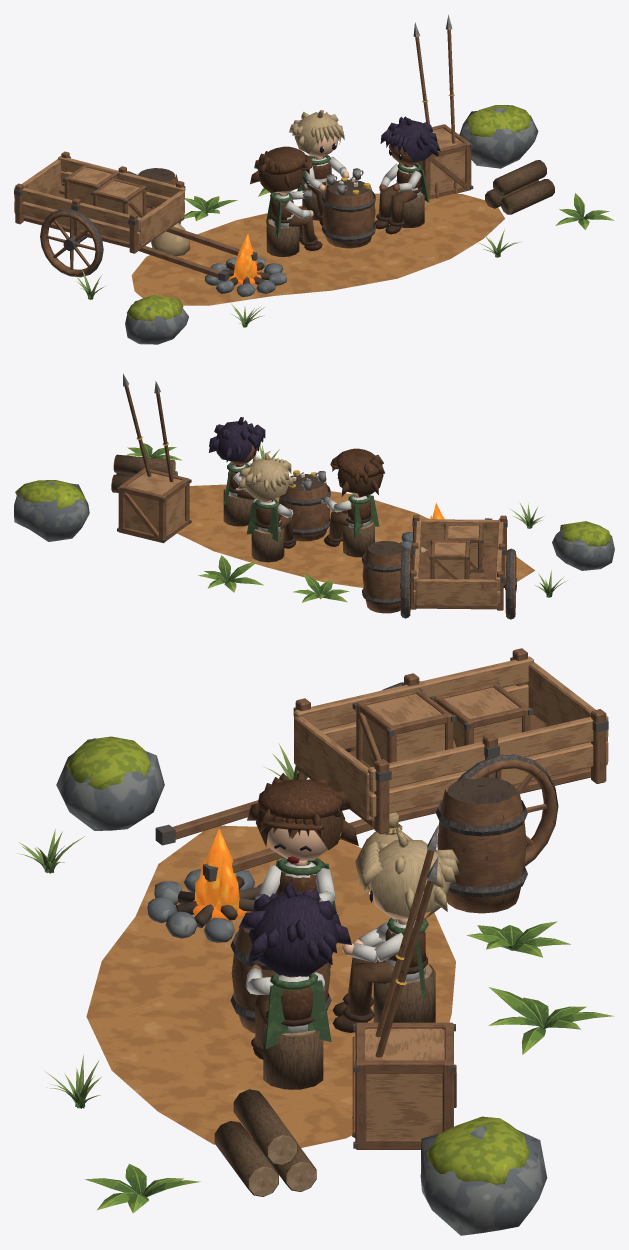
The model's file is ev14_dice.glb.
The picture shows the model from 3 angles, top to bottom: view 1: azimuth 30°, elevation 25°; view 2: azimuth 150°, elevation 25°; view 3: azimuth 270°, elevation 25°; orthographic projection. The views are drawn at different scales.
Visible parts, largest first — view 1: ev14_dice_ground_details, ev14_dice_cart, ev14_dice_camp, ev14_dice_guards, ev14_dice_plants; view 2: ev14_dice_ground_details, ev14_dice_cart, ev14_dice_camp, ev14_dice_guards, ev14_dice_plants; view 3: ev14_dice_ground_details, ev14_dice_cart, ev14_dice_camp, ev14_dice_guards, ev14_dice_plants.
Part boxes in pixels (bbox=[...]): ev14_dice_ground_details: bbox=[125, 105, 538, 344]; ev14_dice_cart: bbox=[14, 151, 257, 281]; ev14_dice_camp: bbox=[205, 15, 554, 296]; ev14_dice_guards: bbox=[250, 110, 440, 250]; ev14_dice_plants: bbox=[75, 188, 614, 327]; ev14_dice_ground_details: bbox=[14, 480, 614, 587]; ev14_dice_cart: bbox=[362, 515, 516, 619]; ev14_dice_camp: bbox=[111, 373, 445, 562]; ev14_dice_guards: bbox=[208, 417, 384, 548]; ev14_dice_plants: bbox=[126, 443, 567, 602]; ev14_dice_ground_details: bbox=[56, 736, 547, 1235]; ev14_dice_cart: bbox=[155, 648, 608, 913]; ev14_dice_camp: bbox=[147, 824, 456, 1196]; ev14_dice_guards: bbox=[238, 771, 459, 1059]; ev14_dice_plants: bbox=[18, 743, 614, 1213].
Size of what is drawn, in the model's own units: 7.03 by 2.28 by 3.89.
32 materials, 32 textured.
